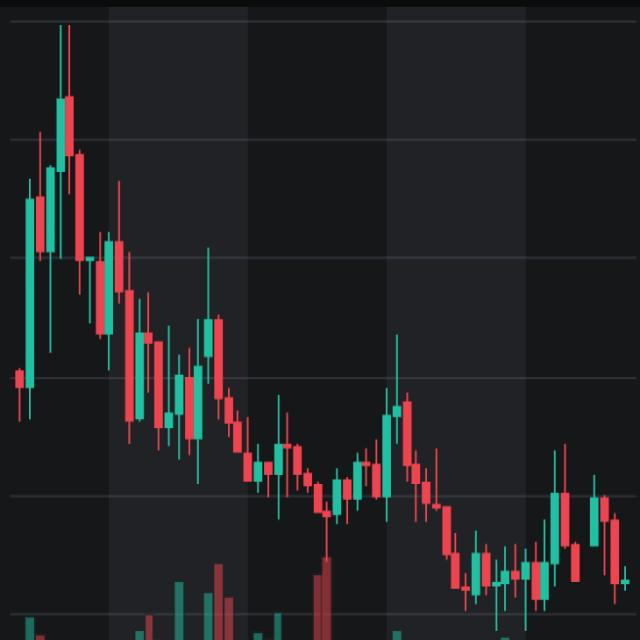Channel-down: (31, 53, 640, 640)
